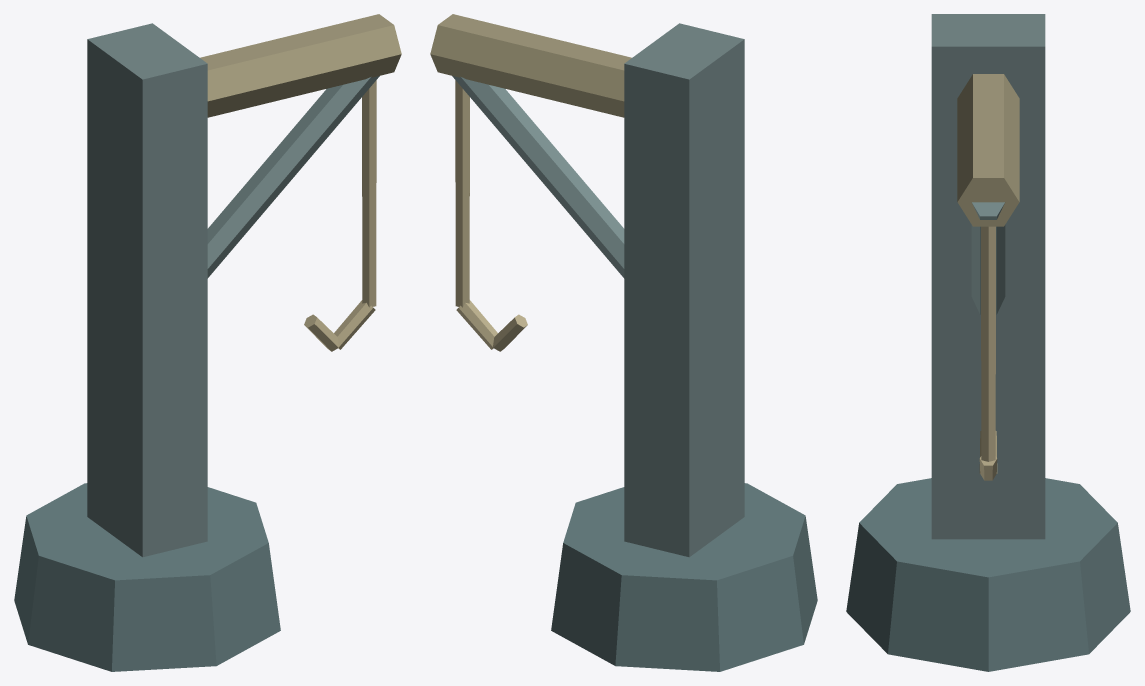
File: map-exclusive-v3__iron_08.glb
The picture shows the model from 3 angles, left to right: view 1: azimuth 30°, elevation 25°; view 2: azimuth 150°, elevation 25°; view 3: azimuth 270°, elevation 25°; orthographic projection. The views are drawn at different scales.
Visible parts, largest first — view 1: iron_08; view 2: iron_08; view 3: iron_08.
Boxes of the visible parts, x1,y1,x2,y2 form: iron_08: [14, 14, 401, 671]; iron_08: [430, 14, 817, 671]; iron_08: [846, 14, 1130, 671].
Bounding box in the file's own units: 1.69 × 2.48 × 1.1.
